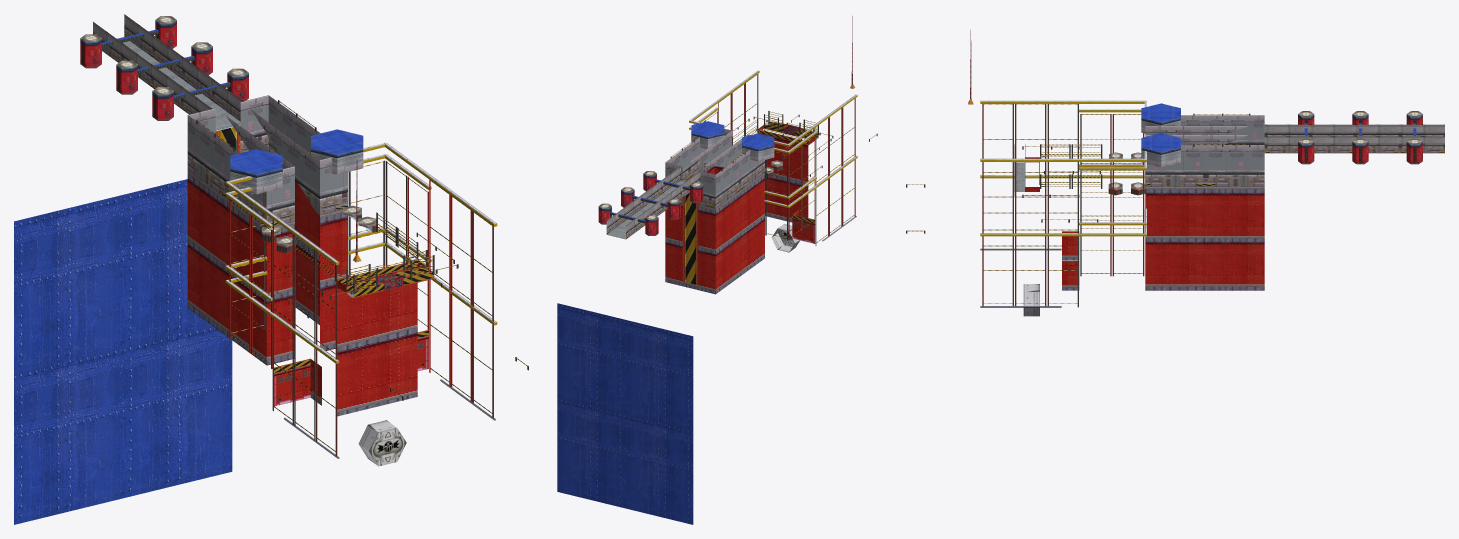
The picture shows the model from 3 angles, left to right: view 1: azimuth 30°, elevation 25°; view 2: azimuth 150°, elevation 25°; view 3: azimuth 270°, elevation 25°; orthographic projection. The views are drawn at different scales.
Parts seen in each view (by area): view 1: s13_on_19_4, s13_on_19_5, s13_on_19_21, s13_on_19_15, s13_on_19_8, s13_on_19_2, s13_on_19_16, s13_on_19_12, s13_on_19_7, s13_on_19_6, s13_on_19_3, s13_on_19_0 (+5 smaller); view 2: s13_on_19_4, s13_on_19_5, s13_on_19_2, s13_on_19_15, s13_on_19_21, s13_on_19_8, s13_on_19_12, s13_on_19_16, s13_on_19_6, s13_on_19_7, s13_on_19_3, s13_on_19_0 (+3 smaller); view 3: s13_on_19_5, s13_on_19_15, s13_on_19_21, s13_on_19_8, s13_on_19_2, s13_on_19_7, s13_on_19_6, s13_on_19_12, s13_on_19_4, s13_on_19_10, s13_on_19_0.
Boxes of the visible parts, x1,y1,x2,y2 form: s13_on_19_4: [14, 29, 363, 524]; s13_on_19_5: [187, 171, 425, 416]; s13_on_19_21: [187, 95, 347, 208]; s13_on_19_15: [93, 14, 347, 226]; s13_on_19_8: [102, 30, 493, 456]; s13_on_19_2: [197, 101, 526, 451]; s13_on_19_16: [230, 163, 493, 456]; s13_on_19_12: [80, 20, 363, 177]; s13_on_19_7: [225, 144, 497, 363]; s13_on_19_6: [226, 142, 496, 361]; s13_on_19_3: [196, 100, 528, 400]; s13_on_19_0: [230, 152, 417, 279]; s13_on_19_4: [557, 121, 774, 524]; s13_on_19_5: [665, 125, 814, 294]; s13_on_19_2: [671, 74, 876, 284]; s13_on_19_15: [606, 161, 764, 239]; s13_on_19_21: [665, 129, 764, 196]; s13_on_19_8: [610, 74, 855, 245]; s13_on_19_12: [598, 133, 774, 235]; s13_on_19_16: [704, 74, 855, 245]; s13_on_19_6: [689, 70, 857, 206]; s13_on_19_7: [689, 71, 857, 207]; s13_on_19_3: [670, 111, 877, 240]; s13_on_19_0: [691, 84, 854, 173]; s13_on_19_5: [1025, 157, 1264, 290]; s13_on_19_15: [1145, 124, 1444, 186]; s13_on_19_21: [1145, 115, 1264, 172]; s13_on_19_8: [982, 104, 1145, 307]; s13_on_19_2: [907, 104, 1248, 303]; s13_on_19_7: [980, 102, 1146, 236]; s13_on_19_6: [980, 100, 1146, 234]; s13_on_19_12: [1141, 114, 1422, 164]; s13_on_19_4: [1141, 103, 1416, 152]; s13_on_19_10: [1108, 111, 1422, 188]; s13_on_19_0: [968, 99, 1180, 190].
Size of the model in its own units: 700 by 1814 by 1984.
Materials: 22 (22 with a texture image).
